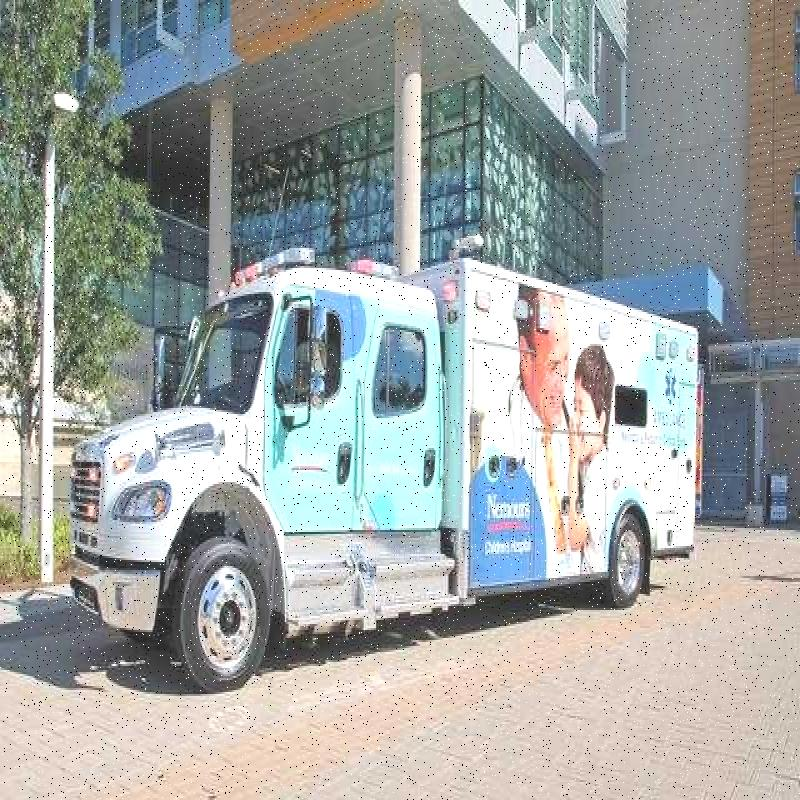AmbulanceSiren: (220, 248, 322, 288)
